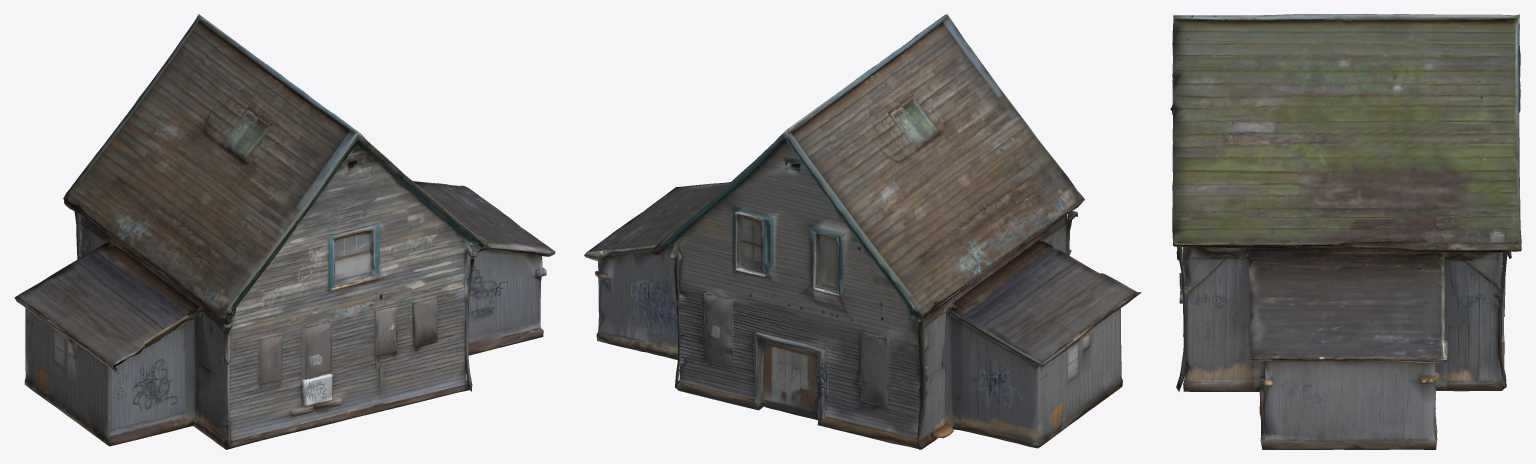
File: house.glb
The picture shows the model from 3 angles, left to right: view 1: azimuth 30°, elevation 25°; view 2: azimuth 150°, elevation 25°; view 3: azimuth 270°, elevation 25°; orthographic projection. The views are drawn at different scales.
Size of the model in its own units: 2 by 1.23 by 1.24.
1 material, 1 textured.
